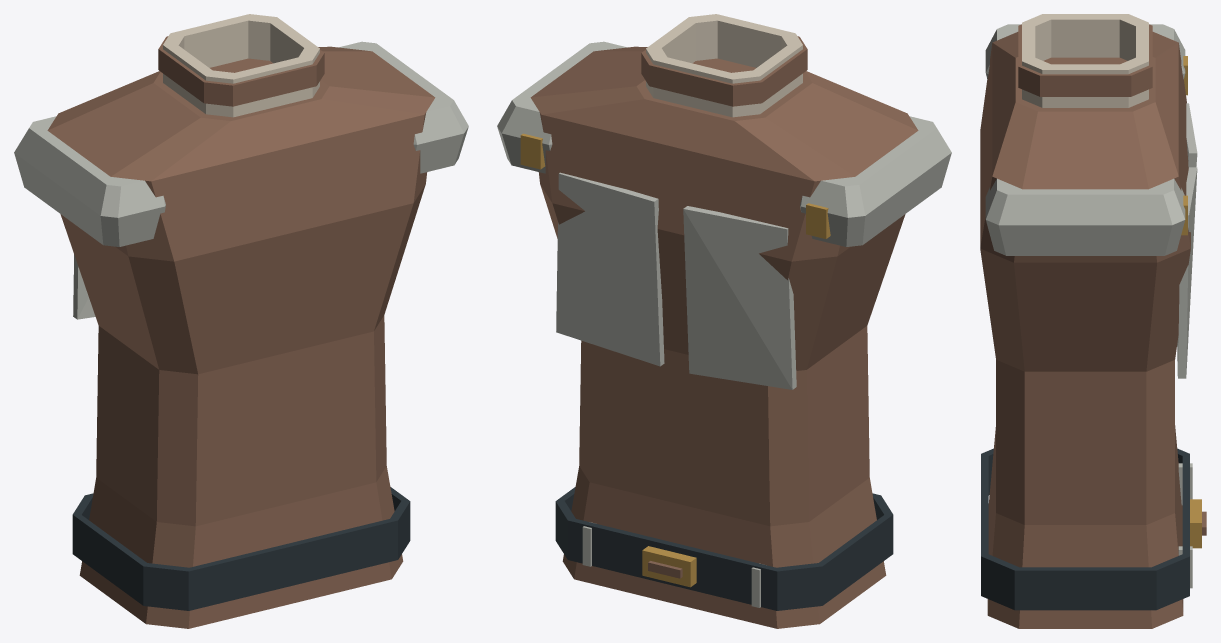
3 views of the same model, side by side, from view 1: azimuth 30°, elevation 25°; view 2: azimuth 150°, elevation 25°; view 3: azimuth 270°, elevation 25° (orthographic).
Parts seen in each view (by area): view 1: 现有程序躯干 · 同用途配色; view 2: 现有程序躯干 · 同用途配色; view 3: 现有程序躯干 · 同用途配色.
Boxes of the visible parts, <box> form: 现有程序躯干 · 同用途配色: <box>14,14,468,628</box>; 现有程序躯干 · 同用途配色: <box>497,14,951,628</box>; 现有程序躯干 · 同用途配色: <box>980,14,1206,628</box>.
Bounding box in the file's own units: 0.458 × 0.62 × 0.243.
5 materials, 5 textured.
